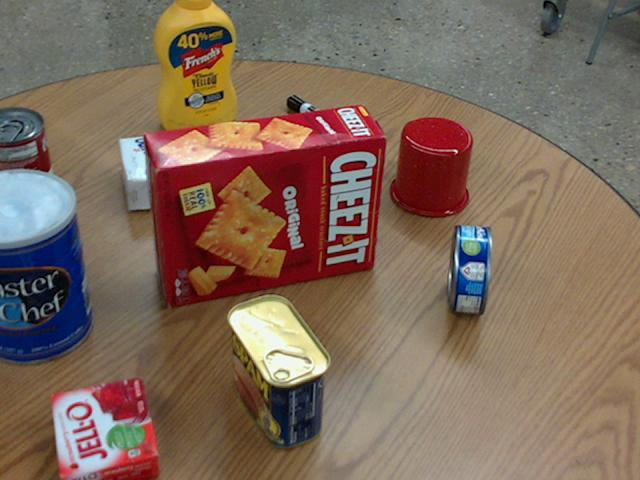cracker_box: (145, 105, 385, 304)
gelatin_box: (50, 377, 156, 479)
large_marker: (287, 94, 358, 143)
master_chef_can: (0, 169, 92, 363)
mug: (388, 117, 471, 216)
mustard_bottle: (155, 0, 236, 131)
potted_meat_can: (226, 294, 327, 447)
sugar_box: (118, 124, 284, 209)
tomato_soup_can: (0, 106, 56, 220)
tuna_fish_can: (447, 224, 491, 313)
